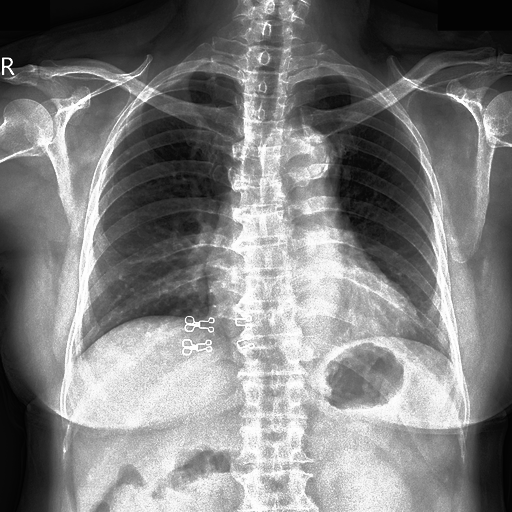Consolidation: (276, 124, 336, 187)
Nodule/Mass: (207, 252, 423, 339)
Pulmonary fibrosis: (124, 149, 131, 155)
